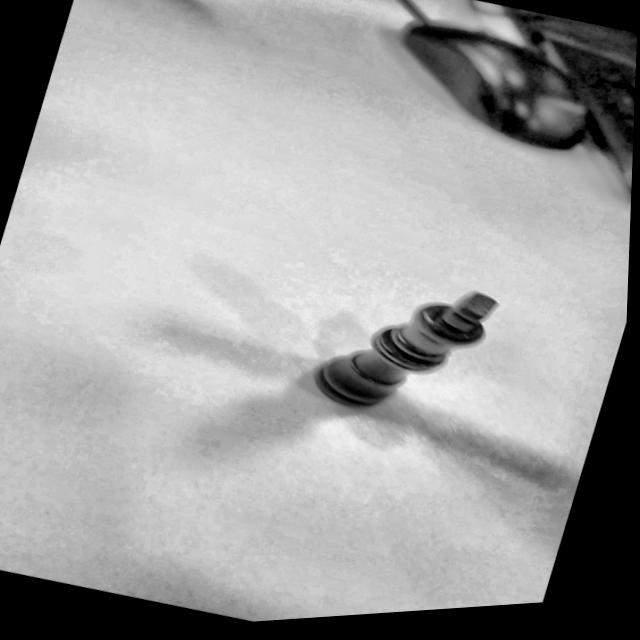black-king: (287, 241, 525, 455)
